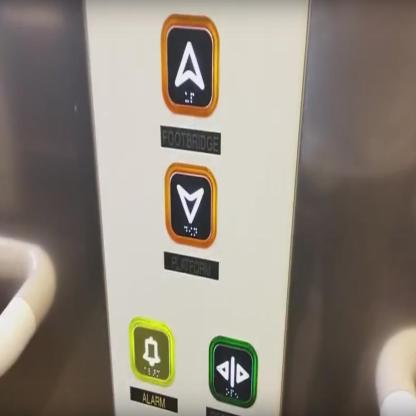alarm: (128, 314, 176, 393)
down: (163, 158, 220, 252)
open: (207, 331, 259, 412)
up: (158, 9, 221, 118)
